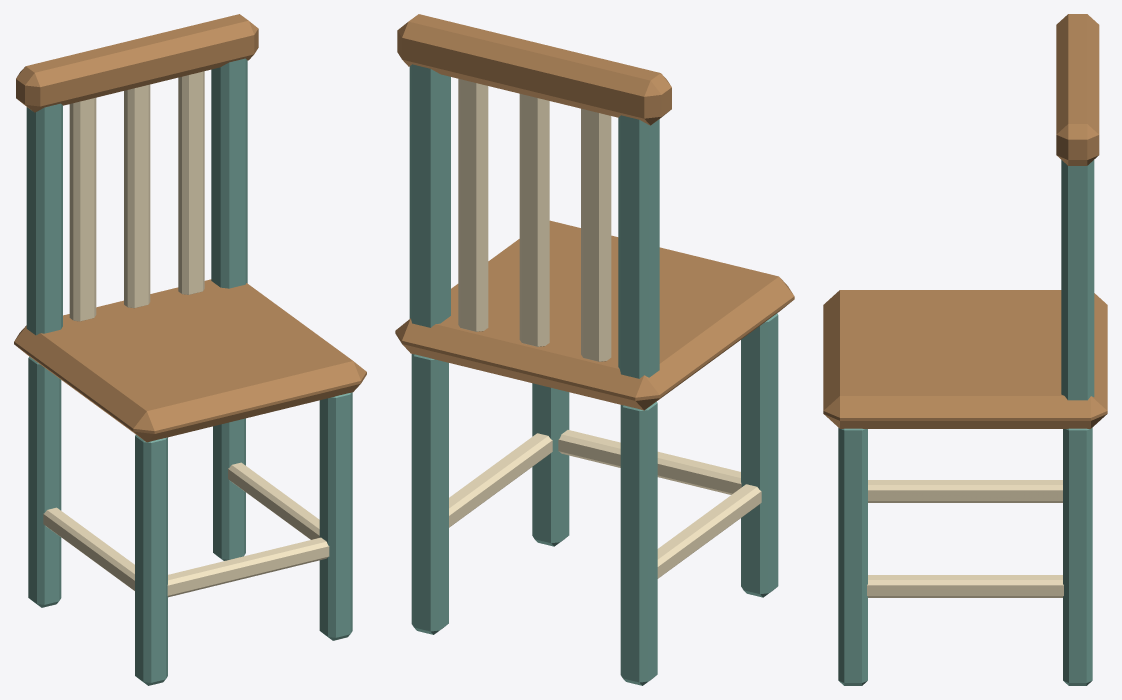
3 views of the same model, side by side, from view 1: azimuth 30°, elevation 25°; view 2: azimuth 150°, elevation 25°; view 3: azimuth 270°, elevation 25° (orthographic). The views are drawn at different scales.
Parts seen in each view (by area): view 1: kitchen-dining-chair-01; view 2: kitchen-dining-chair-01; view 3: kitchen-dining-chair-01.
Boxes of the visible parts, x1,y1,x2,y2 form: kitchen-dining-chair-01: [14, 14, 366, 685]; kitchen-dining-chair-01: [395, 14, 794, 685]; kitchen-dining-chair-01: [823, 14, 1107, 685].
Size of the model in its own units: 0.43 by 0.945 by 0.43.
